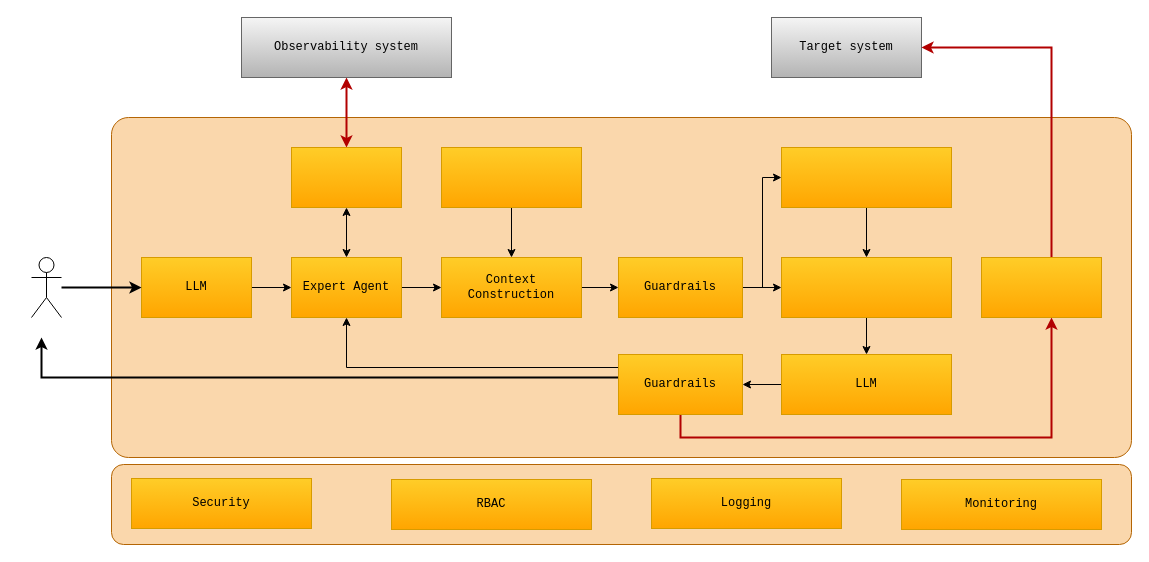
Some shapes in this 1149 by 562 pixel diagram are drawn without their labels. Here are the shapes that lost their labels. From the top down, the centre of each, then its label:
(x=346, y=177): Observability Agent
(x=511, y=177): History DB
(x=866, y=177): Knowledge Base (Incidents DB)
(x=46, y=287): Operator
(x=866, y=287): Prompt + Relevant Info
(x=1041, y=287): Action Executor
